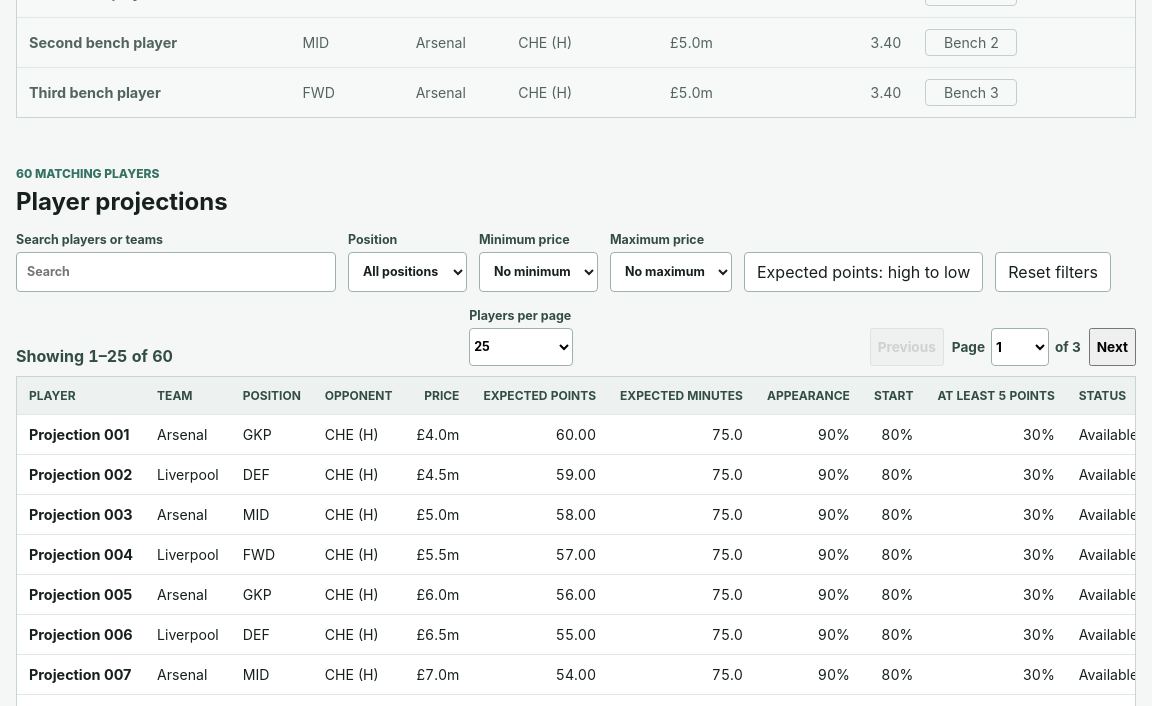
dashboard interactions › paginates sorted projections with working navigation and a final partial page
(page scrolled)
Expected: the text "Showing 1–25 of 60" is shown, [16,346,173,366]
Expected: the column heading "Projection 001" is shown, [17,414,145,454]
Click the button "Next".
click(1112, 347)  # box [1089,328,1136,366]
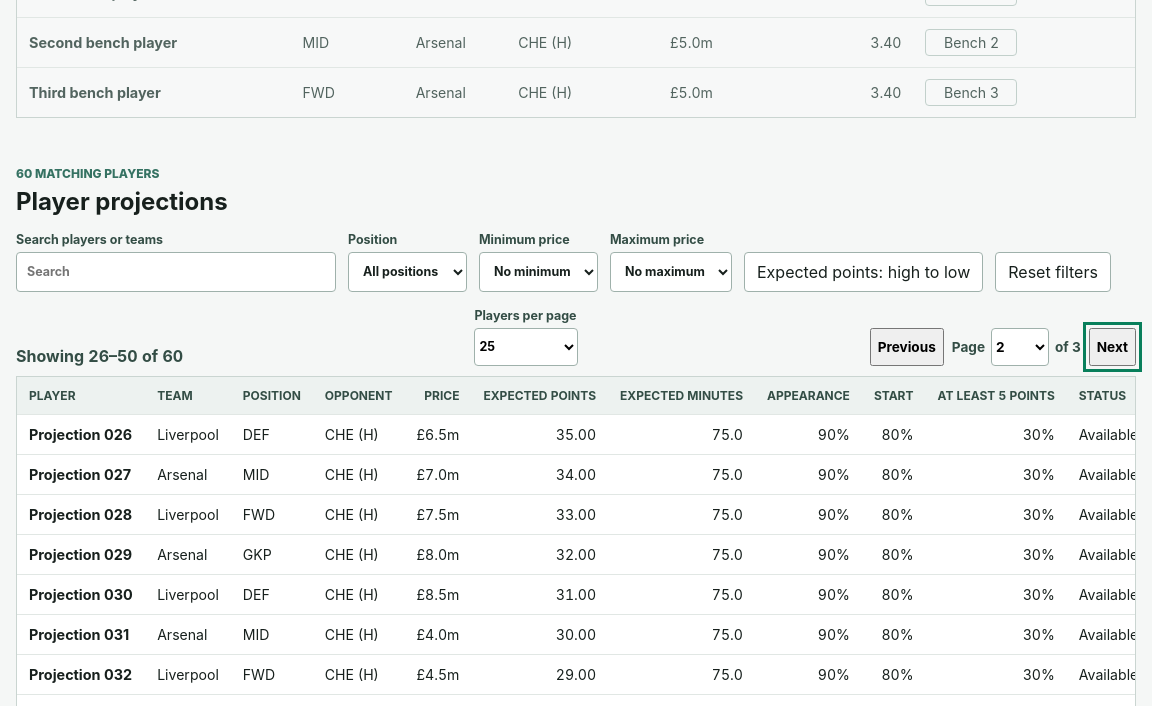
Now the text "Showing 26–50 of 60" is shown, box [16,346,183,366]
Now the column heading "Projection 001" is gone
Now the column heading "Projection 026" is shown, box [17,414,145,454]
Select "3" in the dropdown named "Top projection page" at (1020, 347), box [991,328,1049,366]
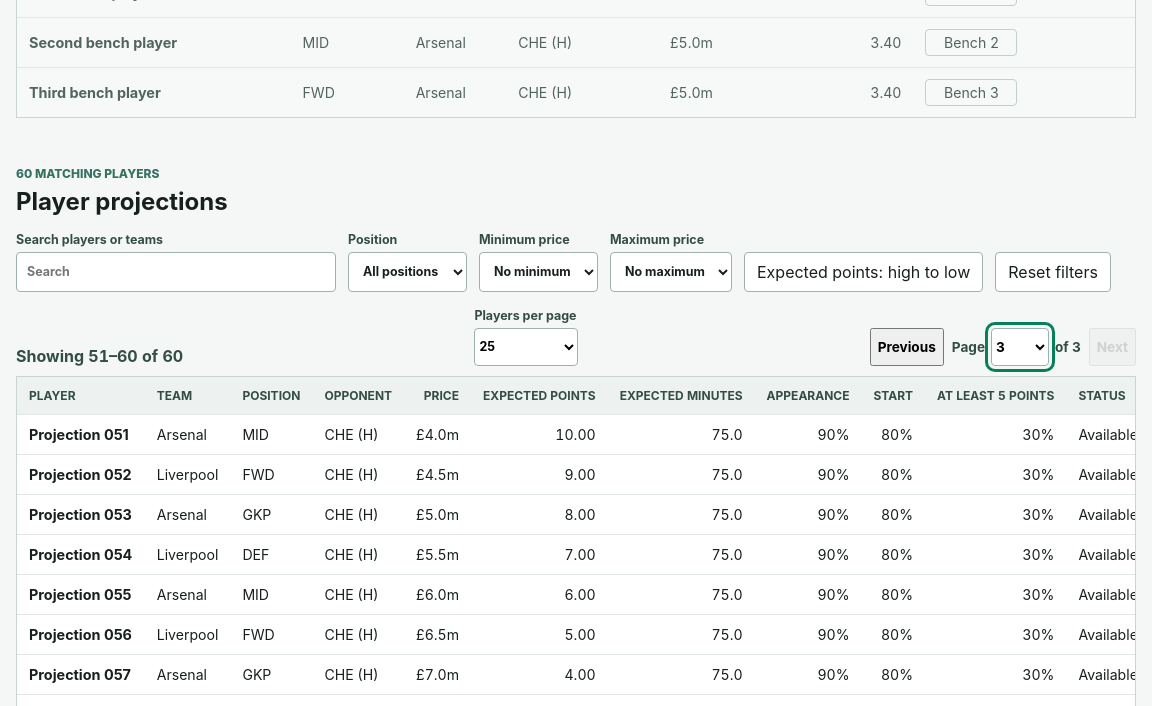
Now the text "Showing 51–60 of 60" is shown, box [16,346,183,366]
Now the button "Next" is disabled, box [1089,328,1136,366]
